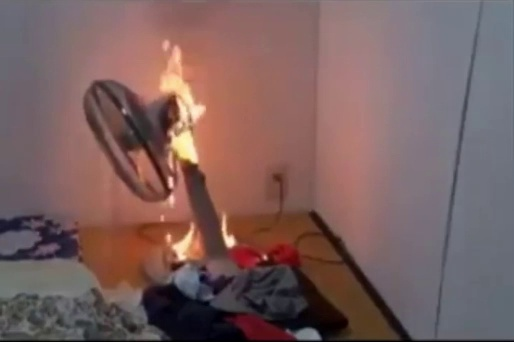fire: (158, 44, 216, 166)
